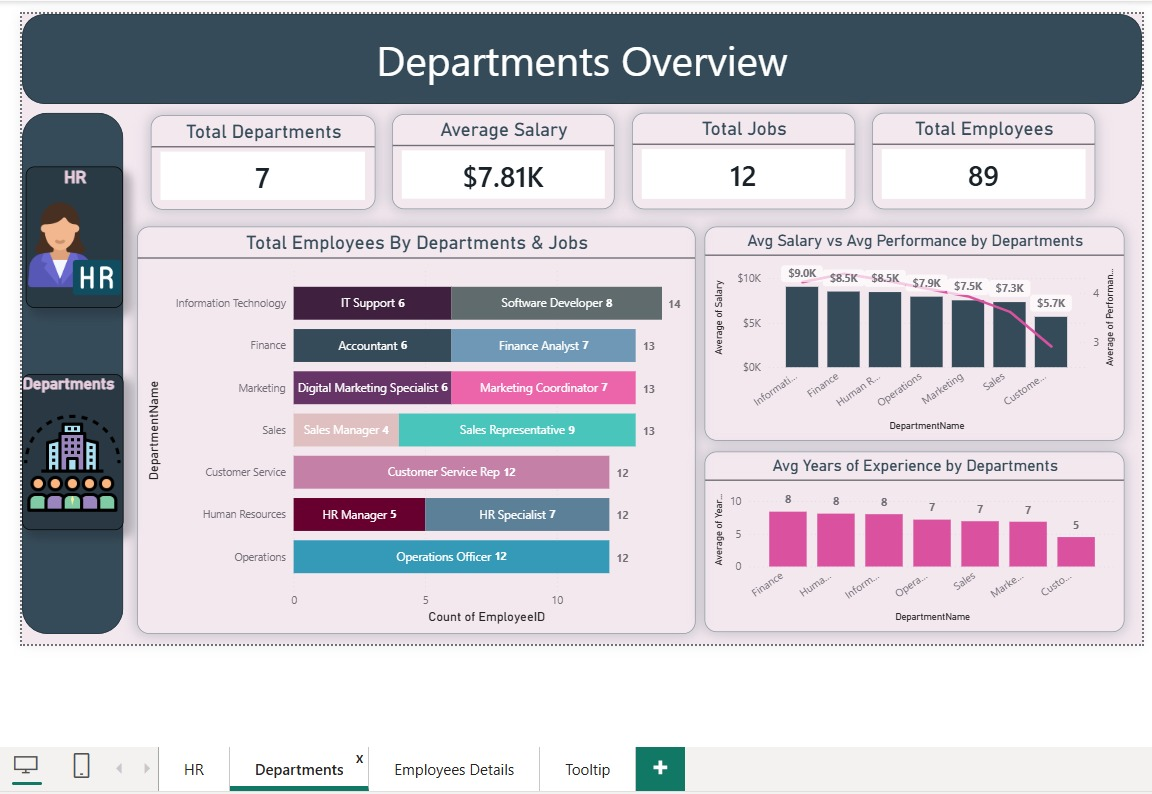

What the dashboard file says about the page in this screenshot:
{"tool":"powerbi","page":{"name":"Departments","canvas":[1280,720],"ordinal":1},"visuals":[{"type":"shape","box":[0,0,1280,102.9],"z":0},{"type":"shape","box":[0,112.9,115.7,595.7],"z":1000},{"type":"image","title":"HR ","box":[4.3,174.3,111.4,161.4],"z":2000},{"type":"image","title":"Departments ","box":[0,411.4,115.7,178.6],"z":3000},{"type":"cardVisual","title":"Total Employees","fields":{"Data":["CountNonNull(Employees.EmployeeID)"]},"box":[971.7,113.3,255,110],"z":4000},{"type":"cardVisual","title":"Average Salary","fields":{"Data":["Avg(Employees.Salary)"]},"box":[423,114.3,254.3,108.6],"z":5000},{"type":"cardVisual","title":"Total Departments","fields":{"Data":["Count(Employees.DepartmentID)"]},"box":[146.7,115,256.7,108.3],"z":6000},{"type":"cardVisual","title":"Total Jobs","fields":{"Data":["Count(Employees.JobID)"]},"box":[697,113.3,255,110],"z":7000},{"type":"barChart","title":"Total Employees By Departments & Jobs","fields":{"Y":["CountNonNull(Employees.EmployeeID)"],"Category":["Departments.DepartmentName"],"Series":["Jobs.JobTitle"]},"box":[131.4,242.9,638.6,465.7],"z":8000},{"type":"lineStackedColumnComboChart","title":"Avg Salary vs Avg Performance by Departments","fields":{"Category":["Departments.DepartmentName"],"Y":["Avg(Employees.Salary)"],"Y2":["Avg(Employees.PerformanceRating)"]},"box":[780,243.3,480,245],"z":9000},{"type":"lineStackedColumnComboChart","title":"Avg Years of Experience by Departments","fields":{"Category":["Departments.DepartmentName"],"Y":["Avg(Employees.Years of Experience)"]},"box":[780,500,480,206.7],"z":9001}]}

Visuals, with their boxes on the page's 1280x720 design canvas (x1, y1, x2, y2). These are canvas units, not pixel positions in the 1152x794 screenshot, which may show the page scaled, cropped or inside an application window:
shape: [0, 0, 1280, 103]
shape: [0, 113, 116, 709]
"HR " image: [4, 174, 116, 336]
"Departments " image: [0, 411, 116, 590]
"Total Employees" cardVisual: [972, 113, 1227, 223]
"Average Salary" cardVisual: [423, 114, 677, 223]
"Total Departments" cardVisual: [147, 115, 403, 223]
"Total Jobs" cardVisual: [697, 113, 952, 223]
"Total Employees By Departments & Jobs" barChart: [131, 243, 770, 709]
"Avg Salary vs Avg Performance by Departments" lineStackedColumnComboChart: [780, 243, 1260, 488]
"Avg Years of Experience by Departments" lineStackedColumnComboChart: [780, 500, 1260, 707]
